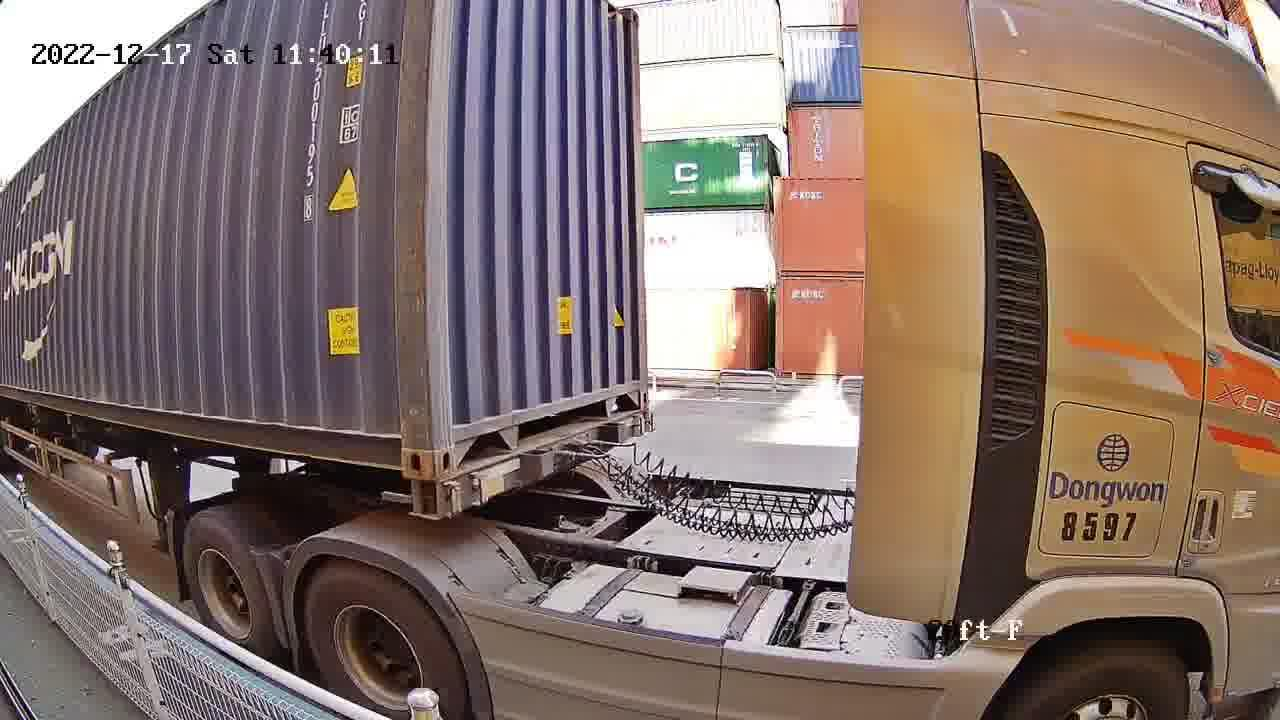Chassis: (440, 407, 652, 523)
Cone: (401, 481, 440, 518)
Hole_L: (431, 407, 491, 480)
Hole_R: (375, 405, 432, 480), (617, 370, 649, 414)
Tire: (305, 562, 465, 715), (182, 517, 278, 653)
